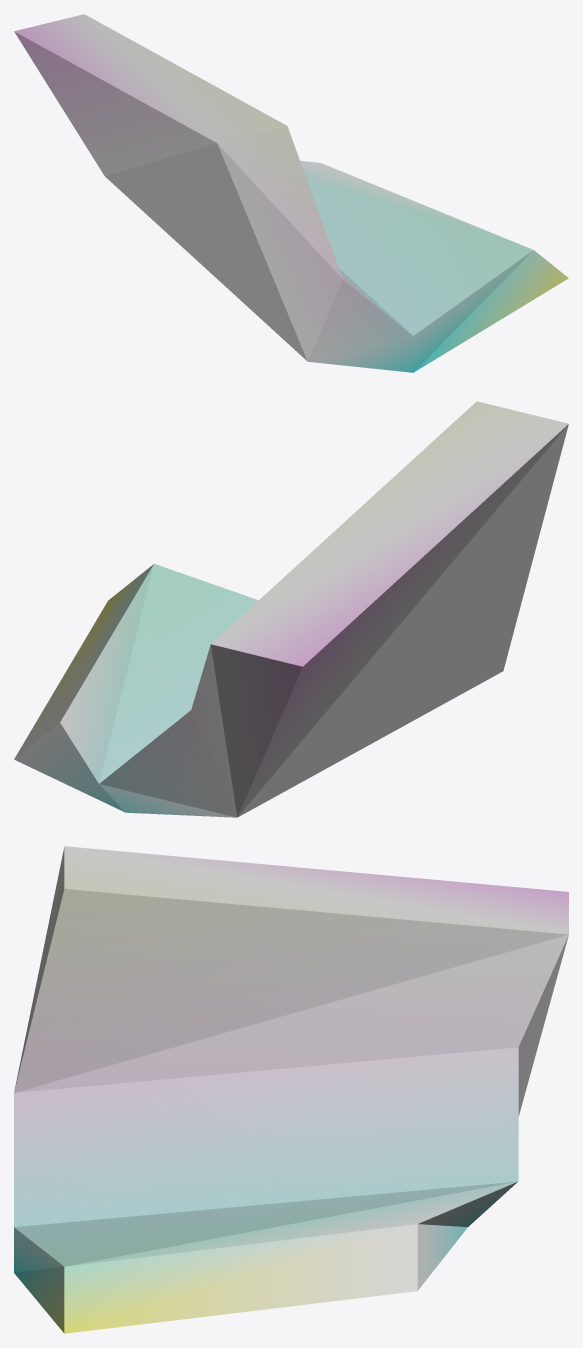
3 renders of one model, top to bottom at view 1: azimuth 30°, elevation 25°; view 2: azimuth 150°, elevation 25°; view 3: azimuth 270°, elevation 25°, orthographic. The views are drawn at different scales.
Parts seen in each view (by area): view 1: model_11B9; view 2: model_11B9; view 3: model_11B9.
Part boxes in pixels (x1,y1,x2,y2): model_11B9: [14, 14, 568, 372]; model_11B9: [14, 401, 568, 817]; model_11B9: [14, 846, 568, 1333].
Size of the model in its own units: 10 by 7 by 11.
